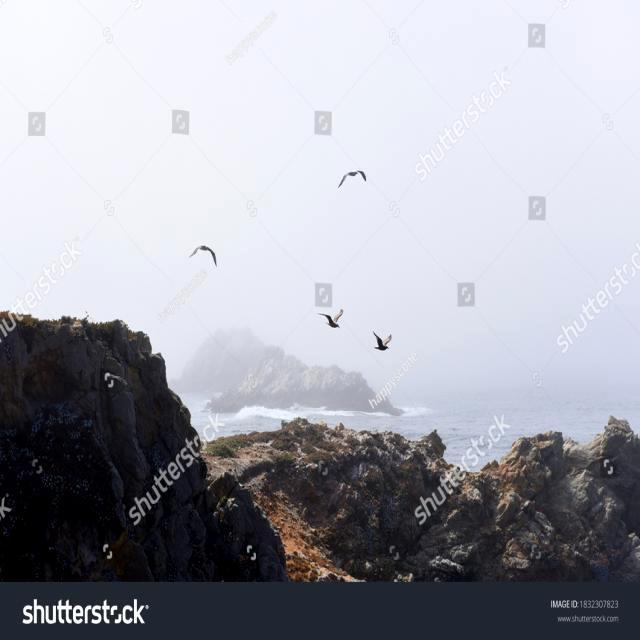bird: (314, 298, 349, 339), (366, 321, 400, 363), (189, 232, 224, 270), (337, 162, 373, 198)
